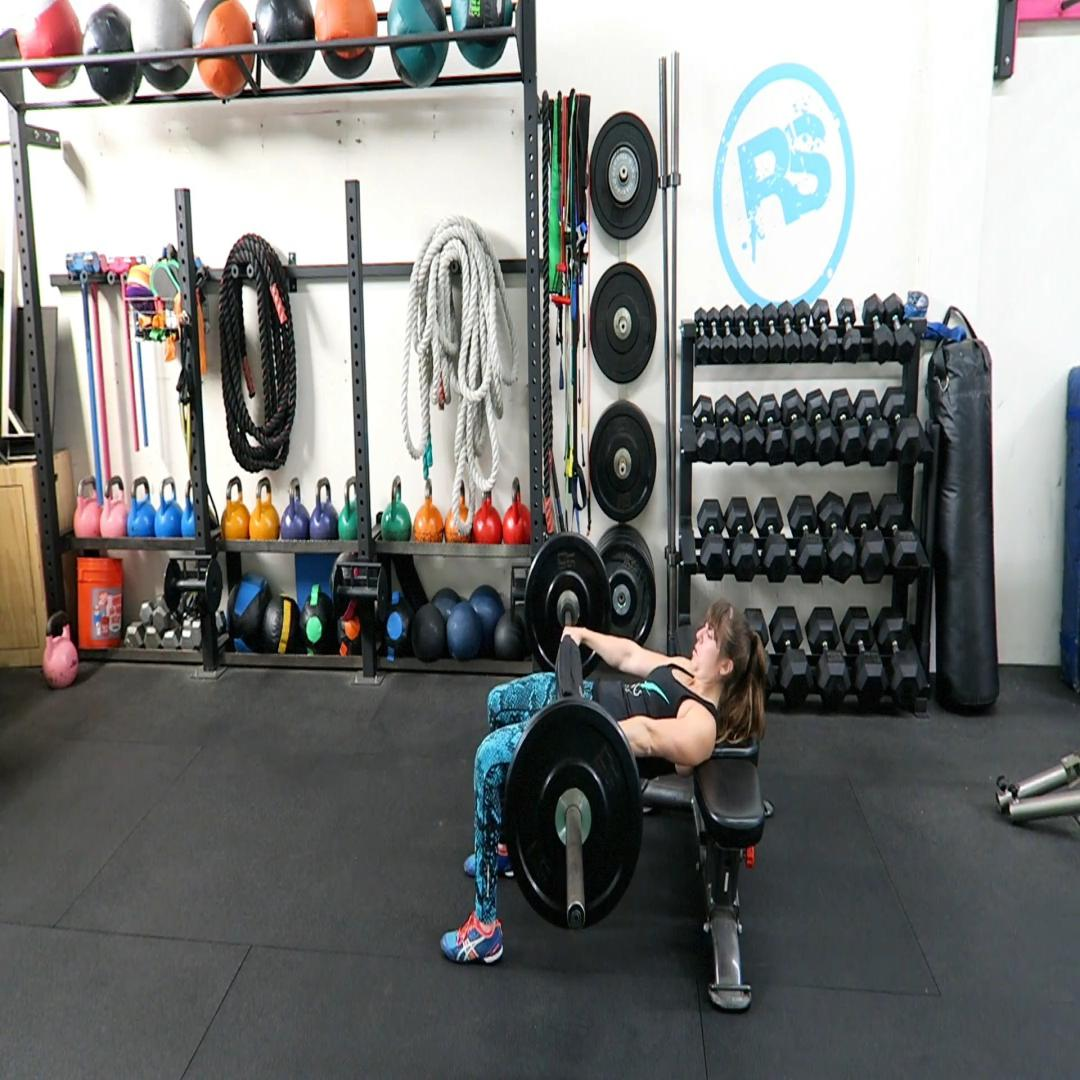Bar: (566, 901, 585, 930)
Barbell: (503, 703, 643, 930)
